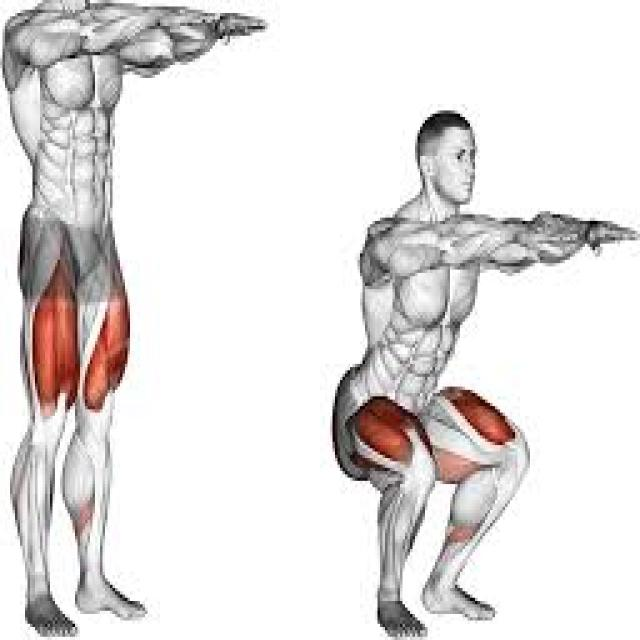squat: (323, 101, 640, 640)
